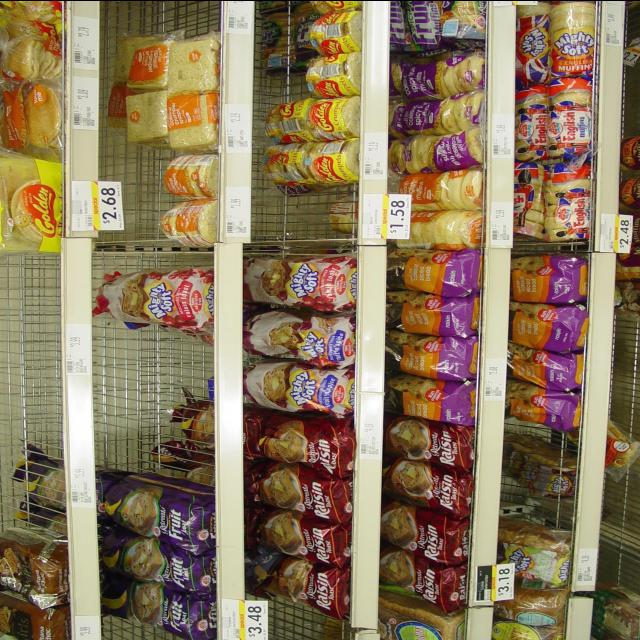empty_space: (8, 266, 57, 519), (114, 345, 207, 459), (512, 440, 570, 516), (608, 476, 640, 580), (616, 290, 640, 414), (267, 197, 353, 231), (127, 0, 213, 24), (275, 612, 337, 632)
